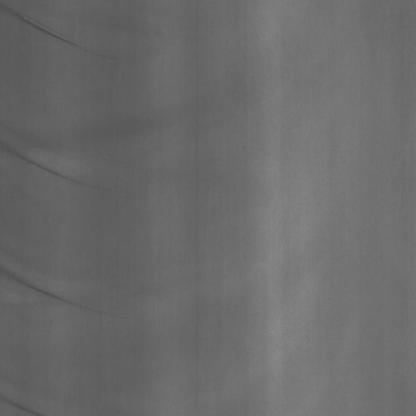crease: (0, 253, 104, 325), (0, 2, 110, 69), (0, 142, 107, 196)
